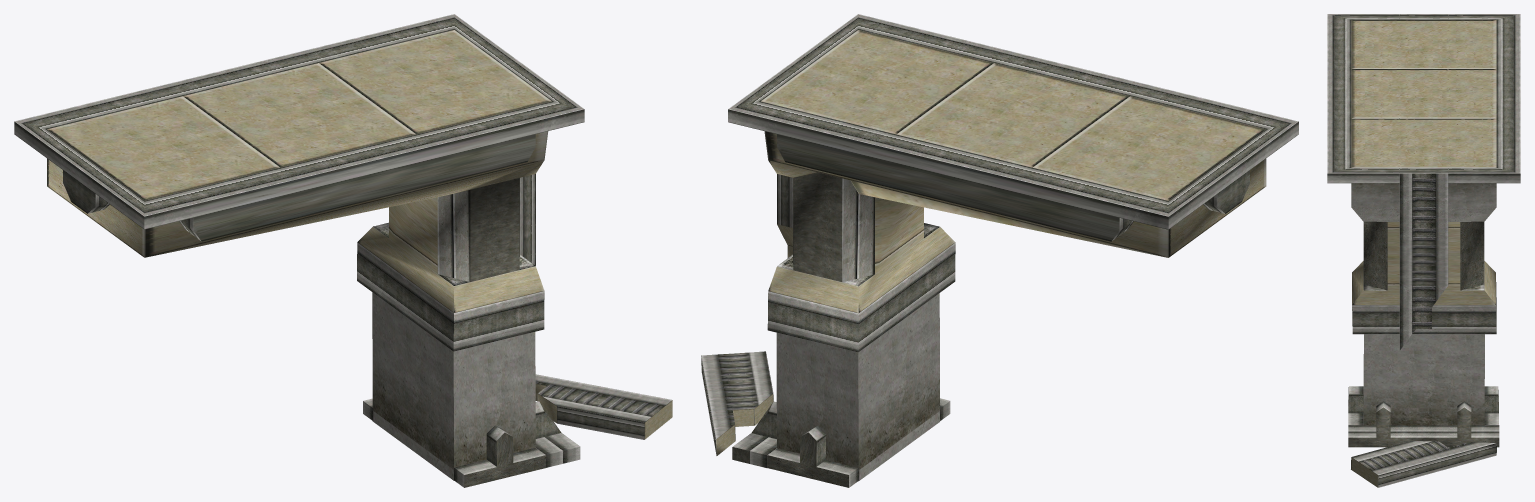
Rendered from DWARF_PALACE_WATER_ROOM_BROKENPILLER.fbx.
3 views of the same model, side by side, from view 1: azimuth 30°, elevation 25°; view 2: azimuth 150°, elevation 25°; view 3: azimuth 270°, elevation 25° (orthographic). The views are drawn at different scales.
Parts seen in each view (by area): view 1: DWARF_PALACE_WATER_ROOM_BROKENPILLER; view 2: DWARF_PALACE_WATER_ROOM_BROKENPILLER; view 3: DWARF_PALACE_WATER_ROOM_BROKENPILLER.
Boxes of the visible parts, x1,y1,x2,y2 form: DWARF_PALACE_WATER_ROOM_BROKENPILLER: [14, 14, 672, 487]; DWARF_PALACE_WATER_ROOM_BROKENPILLER: [701, 14, 1298, 487]; DWARF_PALACE_WATER_ROOM_BROKENPILLER: [1327, 14, 1520, 487].
Bounding box in the file's own units: 137765 × 85508 × 55182.
8 materials, 8 textured.
